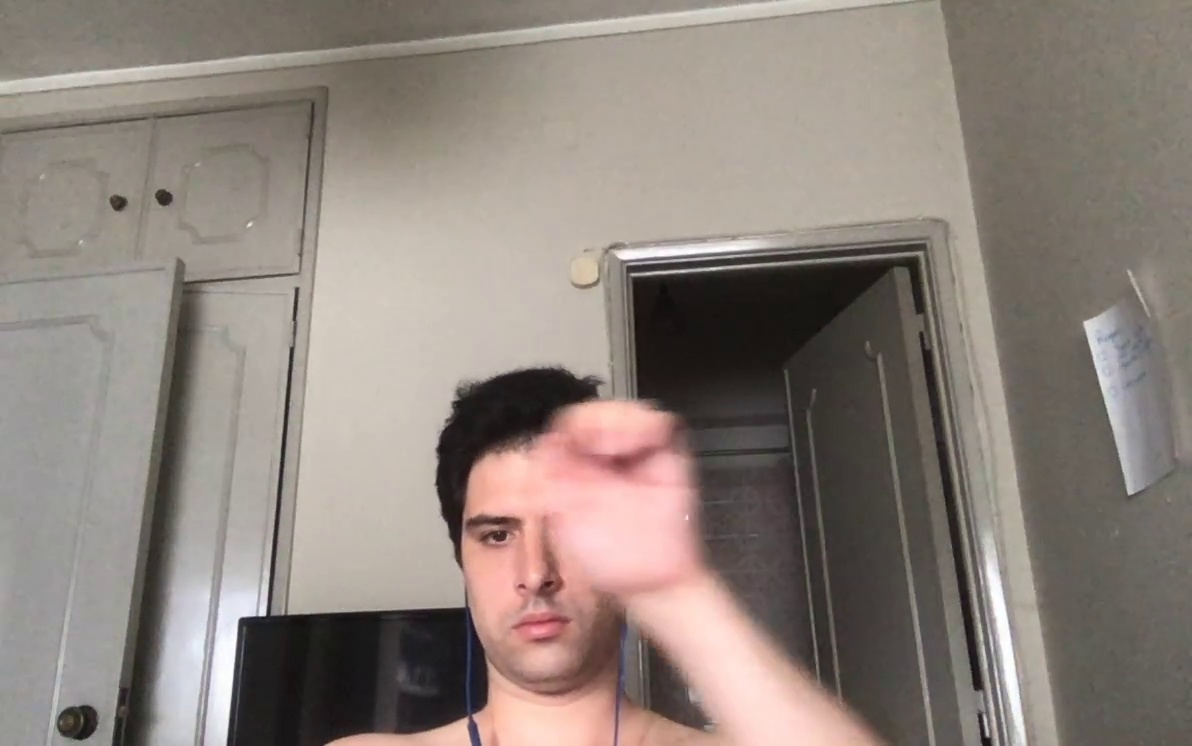c: (533, 390, 705, 607)
